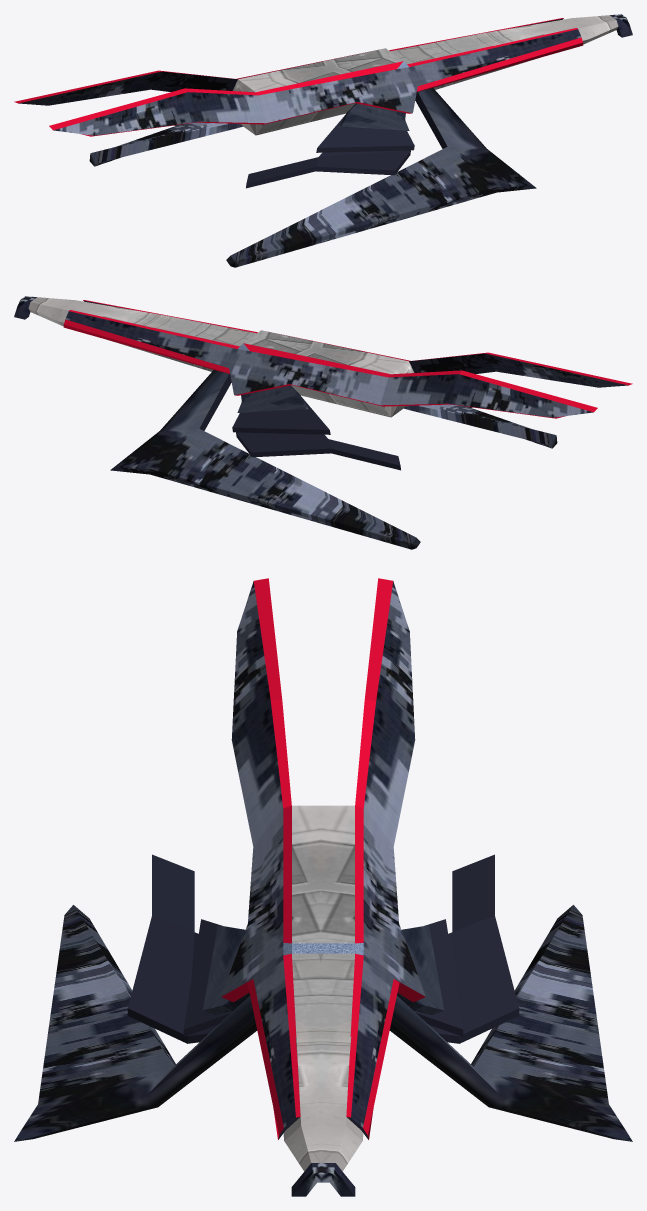
Rendered from cruiser.obj.
3 views of the same model, one above another, from view 1: azimuth 30°, elevation 25°; view 2: azimuth 150°, elevation 25°; view 3: azimuth 270°, elevation 25° (orthographic). The views are drawn at different scales.
Parts seen in each view (by area): view 1: Cube_Cube_Camo, Cube_Cube_Hull, Cube_Cube_Stipe; view 2: Cube_Cube_Camo, Cube_Cube_Hull, Cube_Cube_Stipe; view 3: Cube_Cube_Camo, Cube_Cube_Hull, Cube_Cube_Stipe, Cube_Cube_glass.
Part boxes in pixels (x1,y1,x2,y2): Cube_Cube_Camo: (18, 14, 632, 267); Cube_Cube_Hull: (232, 15, 618, 135); Cube_Cube_Stipe: (14, 18, 583, 136); Cube_Cube_Camo: (14, 296, 628, 549); Cube_Cube_Hull: (28, 297, 414, 417); Cube_Cube_Stipe: (63, 300, 632, 418); Cube_Cube_Camo: (14, 581, 632, 1196); Cube_Cube_Hull: (283, 805, 363, 1171); Cube_Cube_Stipe: (221, 578, 425, 1139); Cube_Cube_glass: (283, 943, 363, 955).
Size of the model in its own units: 13.28 by 2.88 by 6.75.
4 materials, 4 textured.
